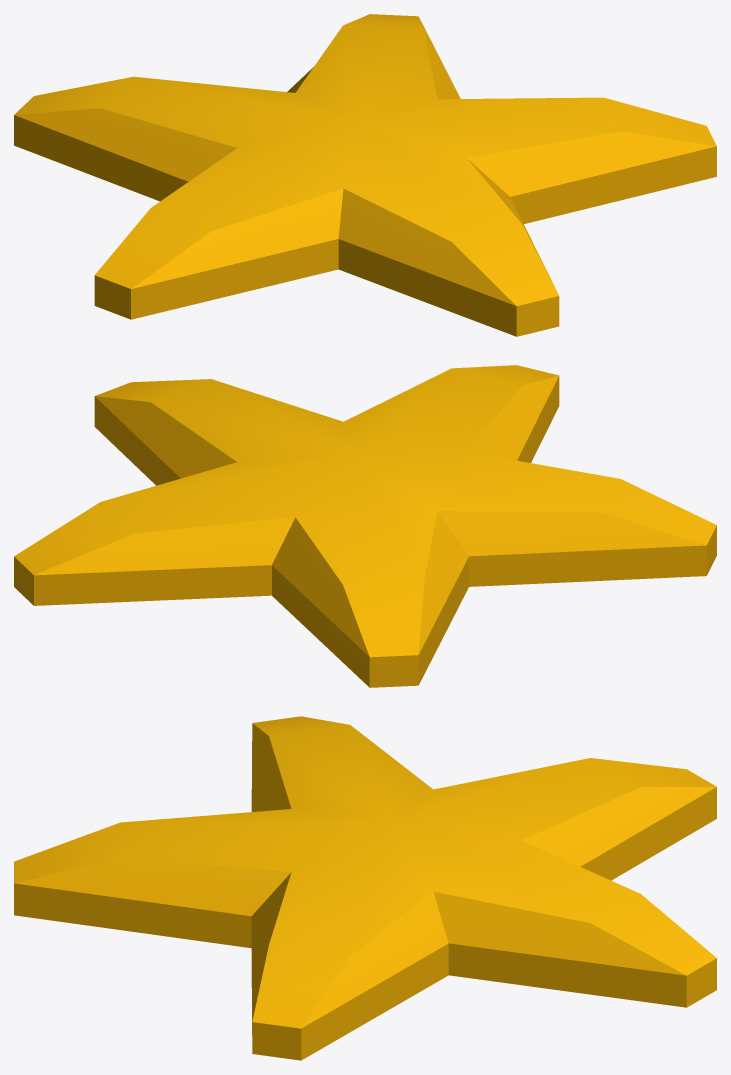
Rendered from BintangLaut.fbx.
3 renders of one model, top to bottom at view 1: azimuth 30°, elevation 25°; view 2: azimuth 150°, elevation 25°; view 3: azimuth 270°, elevation 25°, orthographic. The views are drawn at different scales.
Parts seen in each view (by area): view 1: Starfish_01; view 2: Starfish_01; view 3: Starfish_01.
Part boxes in pixels (x1=…): Starfish_01: x1=14, y1=14, x2=716, y2=336; Starfish_01: x1=14, y1=365, x2=716, y2=687; Starfish_01: x1=14, y1=716, x2=716, y2=1060.
Size of the model in its own units: 87.76 by 10.7 by 83.47.
